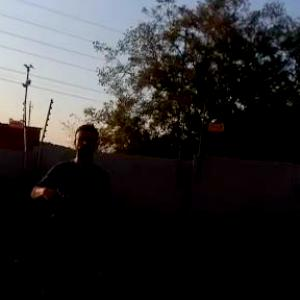follow: (26, 119, 113, 299)
